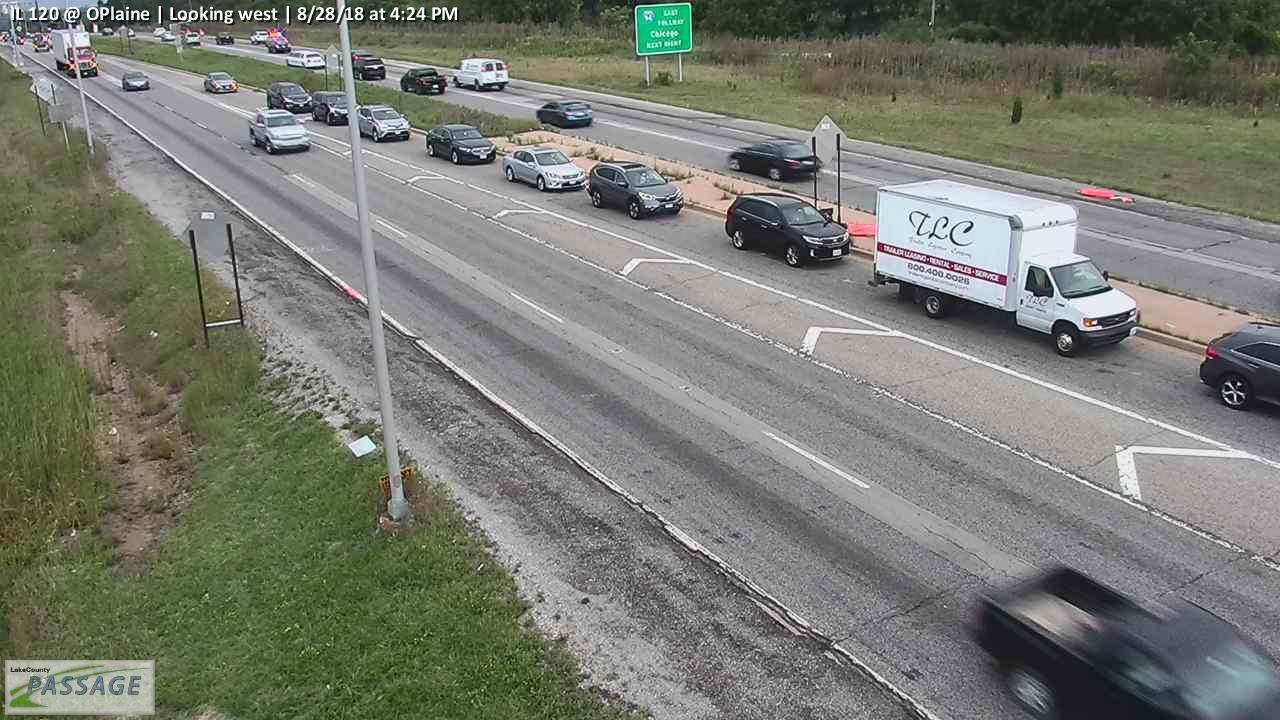SUV: (587, 161, 683, 221), (354, 104, 411, 143), (452, 57, 509, 91), (311, 90, 360, 127), (339, 49, 386, 80), (285, 49, 326, 69), (215, 30, 235, 46), (249, 30, 268, 45), (181, 31, 201, 45)
Sedan: (501, 143, 587, 192), (728, 138, 823, 182), (426, 123, 498, 166), (535, 97, 593, 127), (266, 81, 313, 112), (203, 71, 238, 92), (122, 71, 149, 91), (265, 38, 292, 52), (160, 31, 176, 40)
Truck: (965, 562, 1280, 720), (869, 176, 1143, 357), (247, 109, 310, 153), (50, 28, 99, 78), (400, 67, 448, 95)
